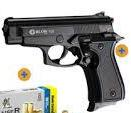gun: (1, 1, 131, 113)
